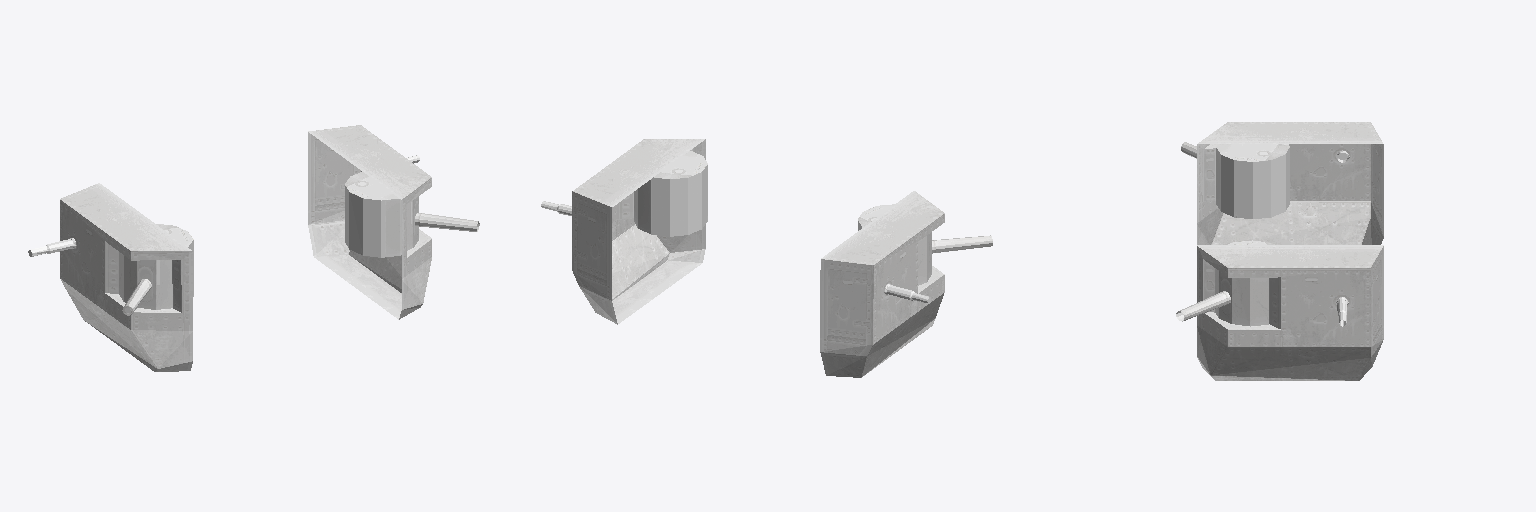
3 views of the same model, side by side, from view 1: azimuth 30°, elevation 25°; view 2: azimuth 150°, elevation 25°; view 3: azimuth 270°, elevation 25° (orthographic).
Parts seen in each view (by area): view 1: sponson; view 2: sponson; view 3: sponson.
Part boxes in pixels (x1,y1,x2,y2): sponson: (28, 125, 479, 371); sponson: (541, 139, 992, 377); sponson: (1176, 122, 1383, 380).
Size of the model in its own units: 0.1391 by 0.042 by 0.0647.
Materials: 1 (1 with a texture image).